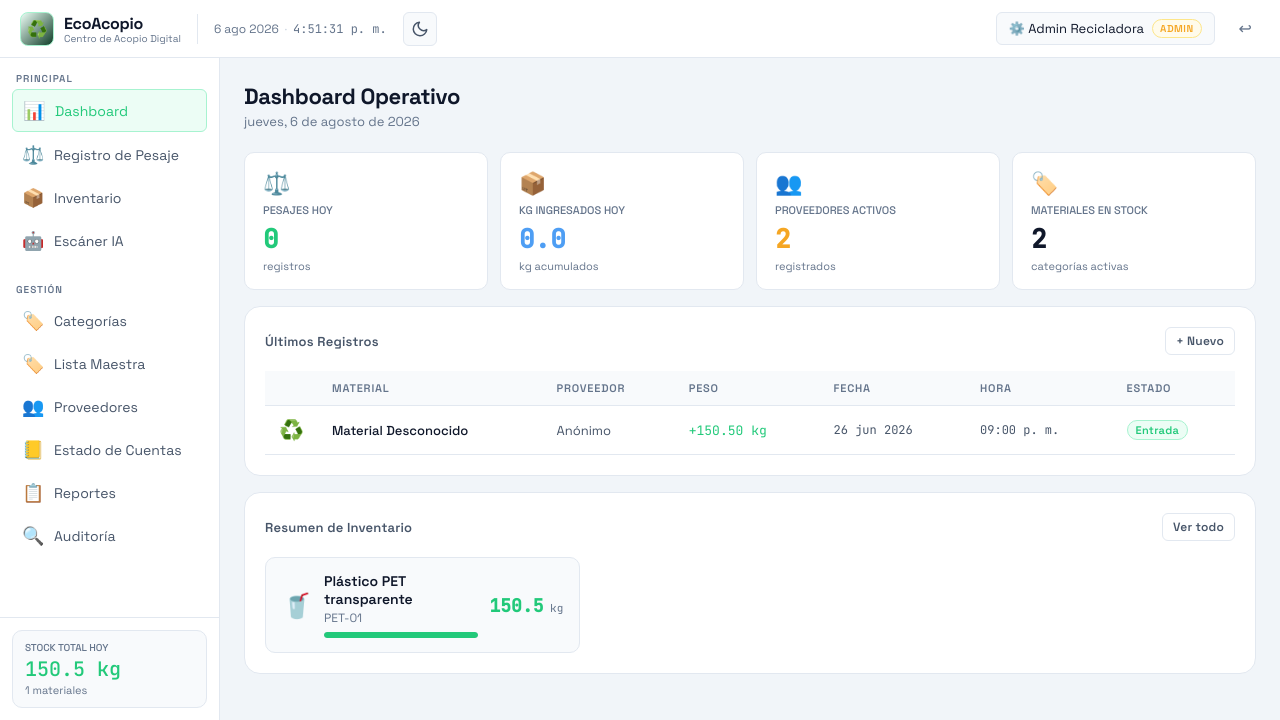
Test: Escáner de Reciclabilidad IA › debería mostrar error si se intenta analizar sin descripción ni imagen
Check: the element with class "topbar" is shown, box [0, 0, 1279, 58]
Click the text "Escáner IA" at (73, 241), box [22, 229, 124, 252]
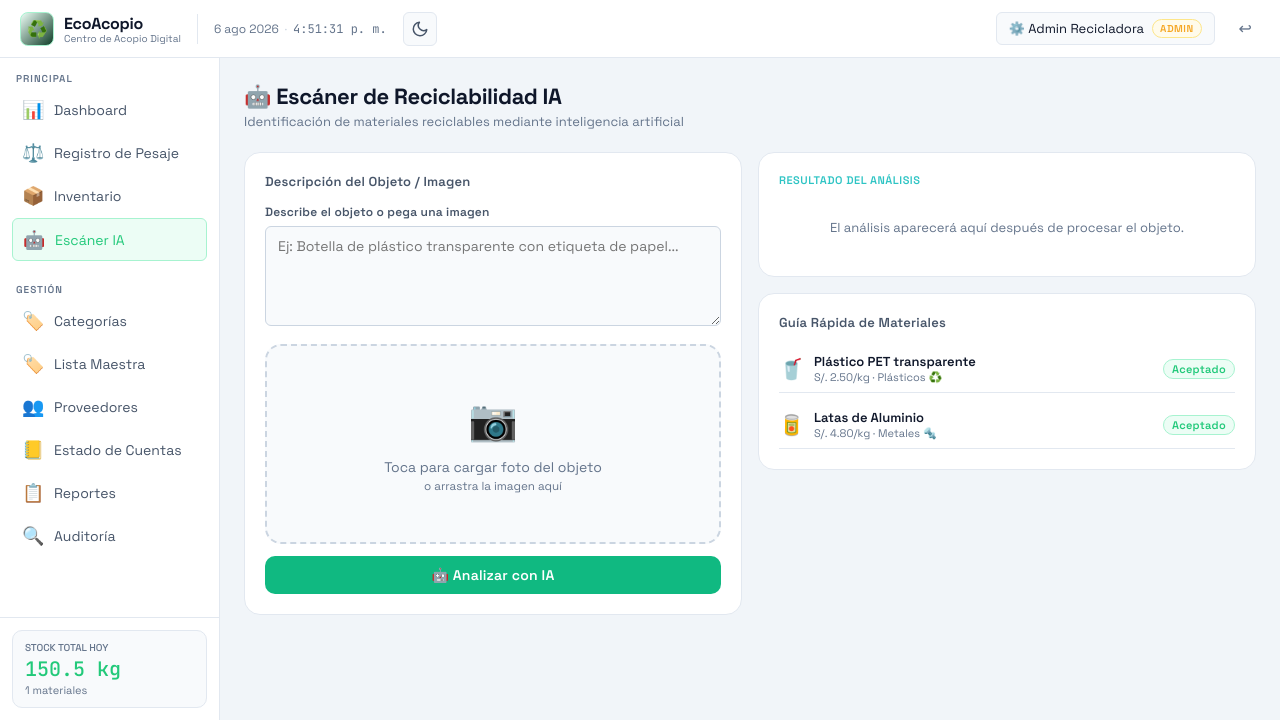
Check: the heading "🤖 Escáner de Reciclabilidad IA" is shown, box [244, 82, 562, 110]
Click the button "🤖 Analizar con IA" at (493, 575), box [265, 556, 721, 594]
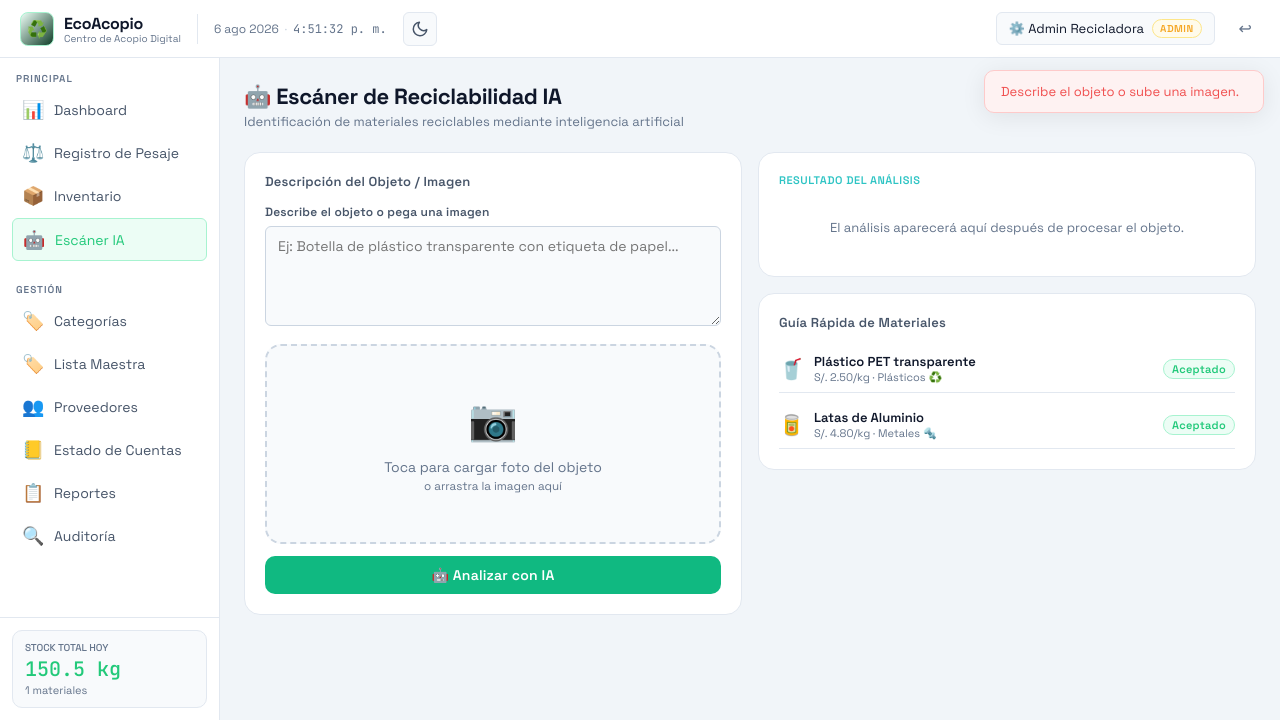
Check: the text with class "toast-error" reads "Describe el objeto o sube una imagen.", box [984, 70, 1264, 113]
